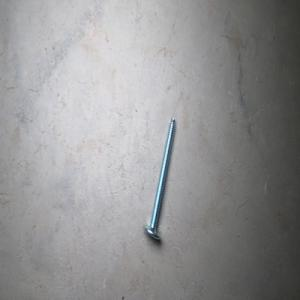Bolt: (142, 116, 176, 240)
